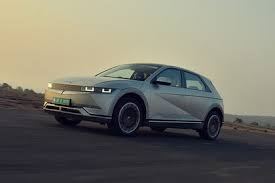Honda Ioniq: (41, 59, 221, 143)
